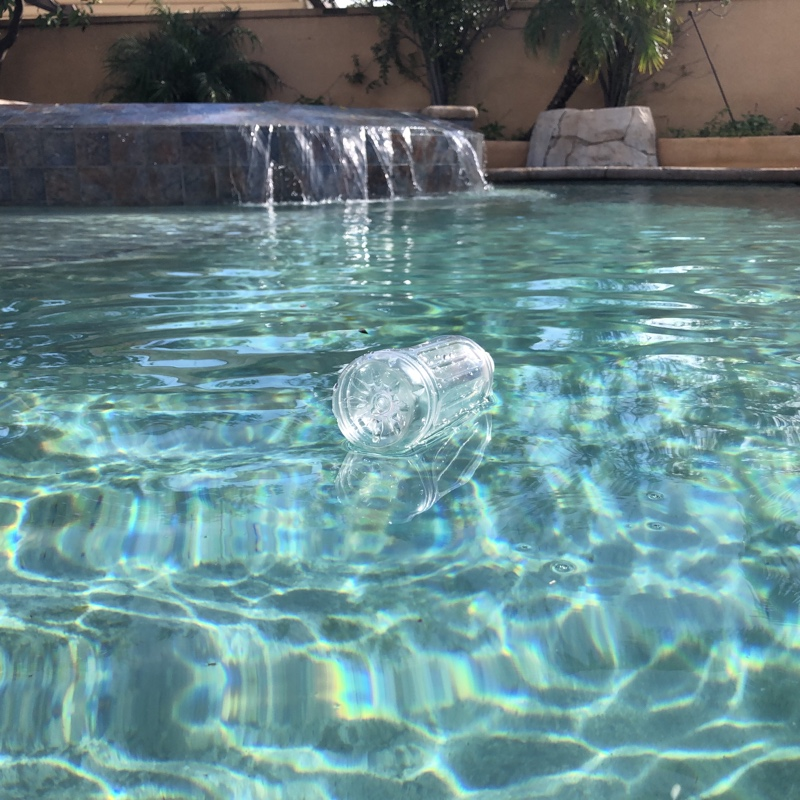Plastic Bottle: (332, 332, 498, 457)
